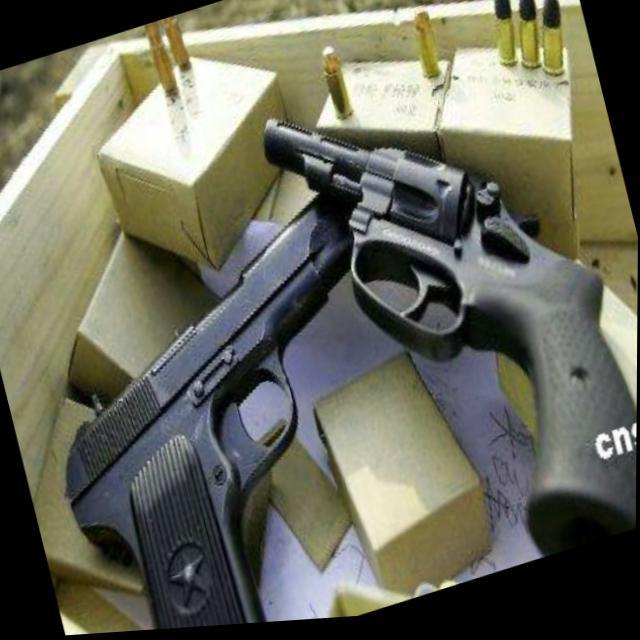weapon: (250, 29, 640, 620), (9, 178, 450, 640)
